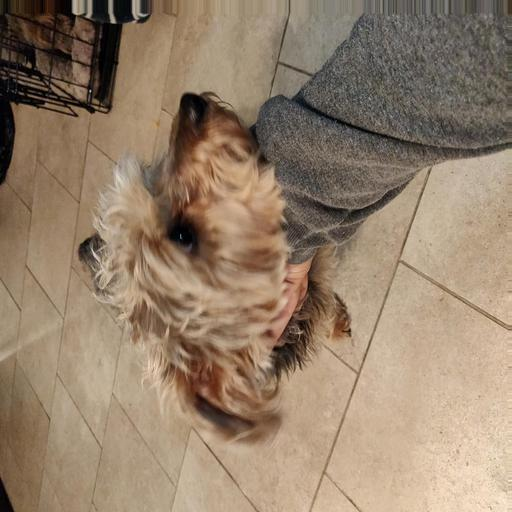dog: (88, 93, 336, 341)
